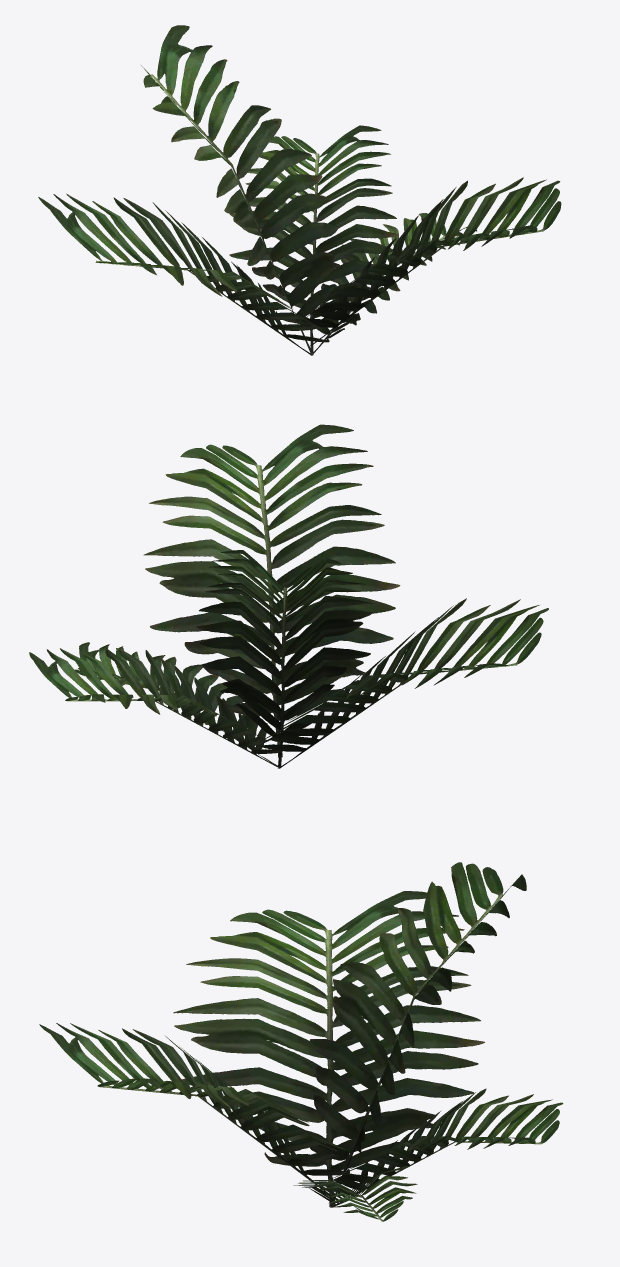
3 renders of one model, top to bottom at view 1: azimuth 30°, elevation 25°; view 2: azimuth 150°, elevation 25°; view 3: azimuth 270°, elevation 25°, orthographic. The views are drawn at different scales.
Parts seen in each view (by area): view 1: body0_model0_lod0_mesh0; view 2: body0_model0_lod0_mesh0; view 3: body0_model0_lod0_mesh0.
Boxes of the visible parts, x1=… form: body0_model0_lod0_mesh0: x1=38, y1=25, x2=561, y2=355; body0_model0_lod0_mesh0: x1=29, y1=424, x2=548, y2=768; body0_model0_lod0_mesh0: x1=39, y1=862, x2=563, y2=1221.
Bounding box in the file's own units: 158 × 94.28 × 162.
Materials: 1 (1 with a texture image).
